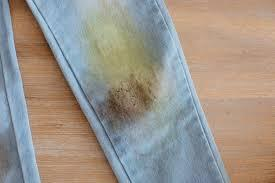earth: (93, 15, 154, 113)
